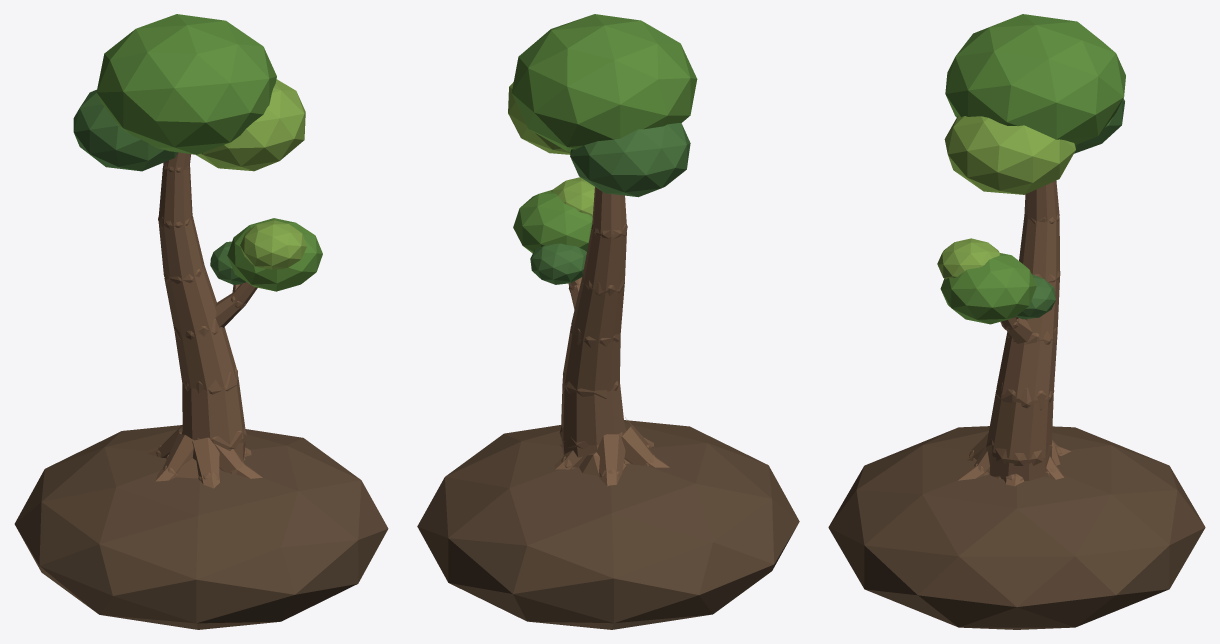
The model's file is tree_03_ungtrae.glb.
3 renders of one model, left to right at view 1: azimuth 30°, elevation 25°; view 2: azimuth 150°, elevation 25°; view 3: azimuth 270°, elevation 25°, orthographic. The views are drawn at different scales.
Visible parts, largest first — view 1: OR_Tree_soil, OR_Tree_leafA, OR_Tree_bark, OR_Tree_leafB, OR_Tree_leafC; view 2: OR_Tree_soil, OR_Tree_leafA, OR_Tree_bark, OR_Tree_leafC, OR_Tree_leafB; view 3: OR_Tree_soil, OR_Tree_leafA, OR_Tree_bark, OR_Tree_leafB, OR_Tree_leafC.
Part boxes in pixels (x1,y1,x2,y2): OR_Tree_soil: (14,425,388,629); OR_Tree_leafA: (96,14,322,291); OR_Tree_bark: (146,152,262,488); OR_Tree_leafB: (196,79,306,269); OR_Tree_leafC: (73,89,245,284); OR_Tree_soil: (417,420,799,629); OR_Tree_leafA: (511,14,697,253); OR_Tree_bark: (554,187,669,486); OR_Tree_leafC: (530,123,690,284); OR_Tree_leafB: (508,82,594,216); OR_Tree_soil: (828,426,1205,629); OR_Tree_leafA: (940,14,1125,324); OR_Tree_bark: (958,181,1070,486); OR_Tree_leafB: (937,115,1075,279); OR_Tree_leafC: (1016,98,1124,319).
Size of the model in its own units: 2.16 by 3.61 by 2.16.
